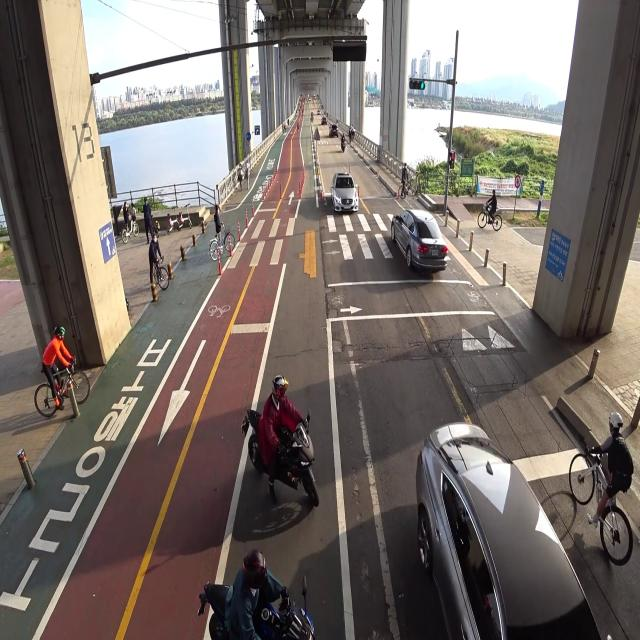Car: (411, 415, 599, 640), (389, 195, 454, 277), (330, 162, 360, 220), (328, 120, 339, 138), (321, 115, 330, 127)
Motorcycle: (195, 539, 319, 640), (242, 372, 318, 507), (339, 130, 347, 155)
